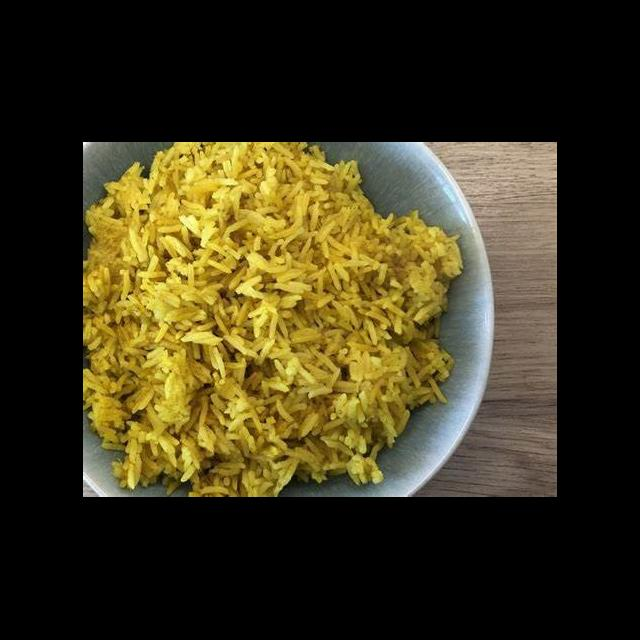food_waste: (110, 180, 331, 418)
